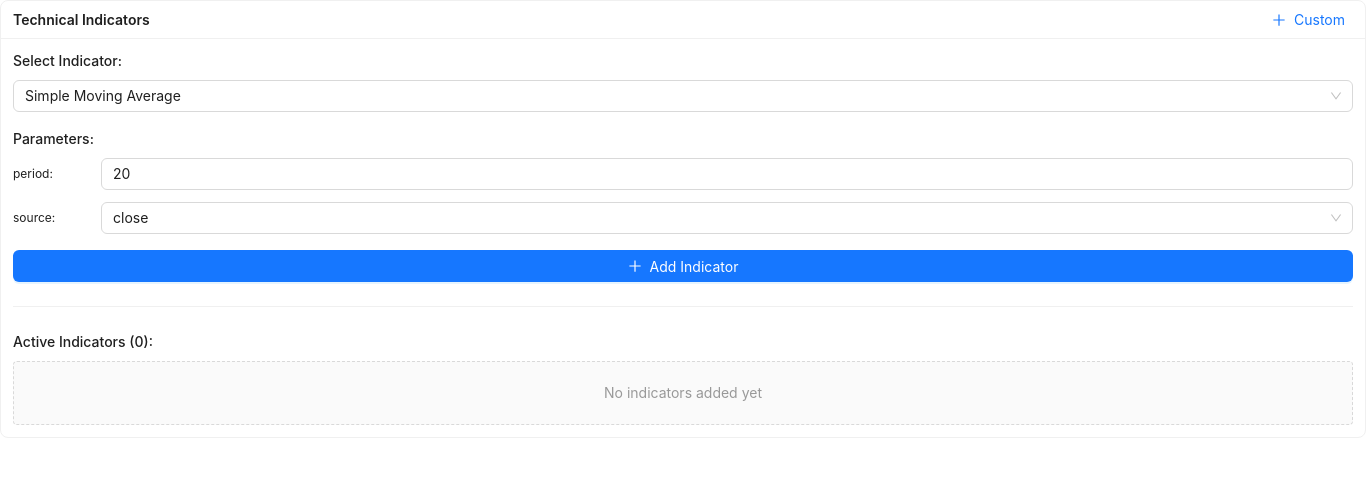
it: IndicatorBuilder › Adding Indicators › should generate unique instance IDs
# Add same indicator twice
Step 1. Click the button "Add Indicator" → (683,266), box [13, 250, 1353, 282]
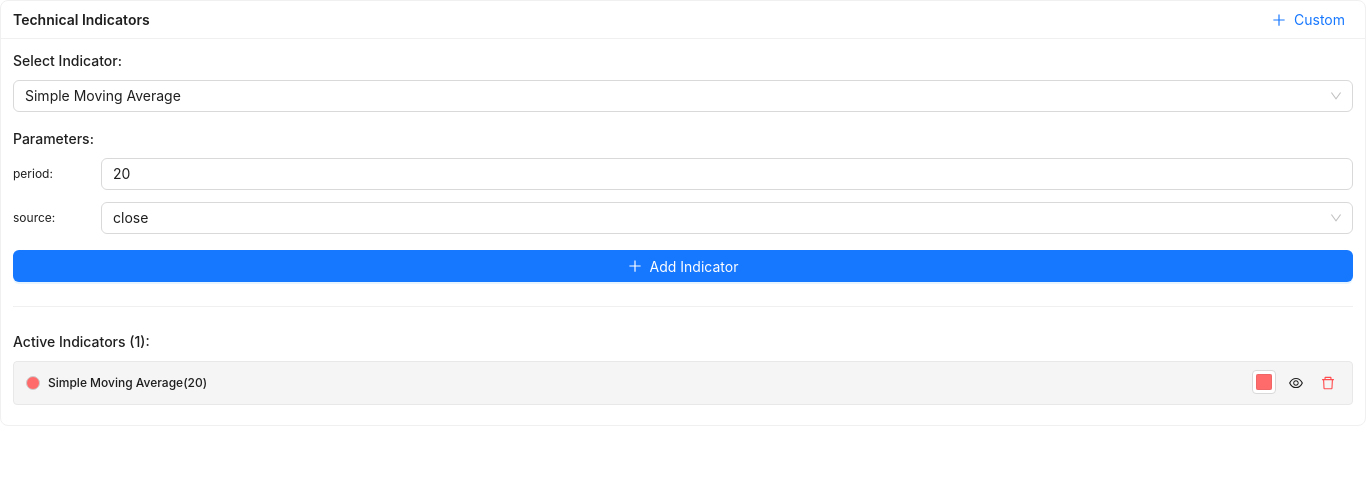
Step 2. Click the button "Add Indicator" → (683,266), box [13, 250, 1353, 282]
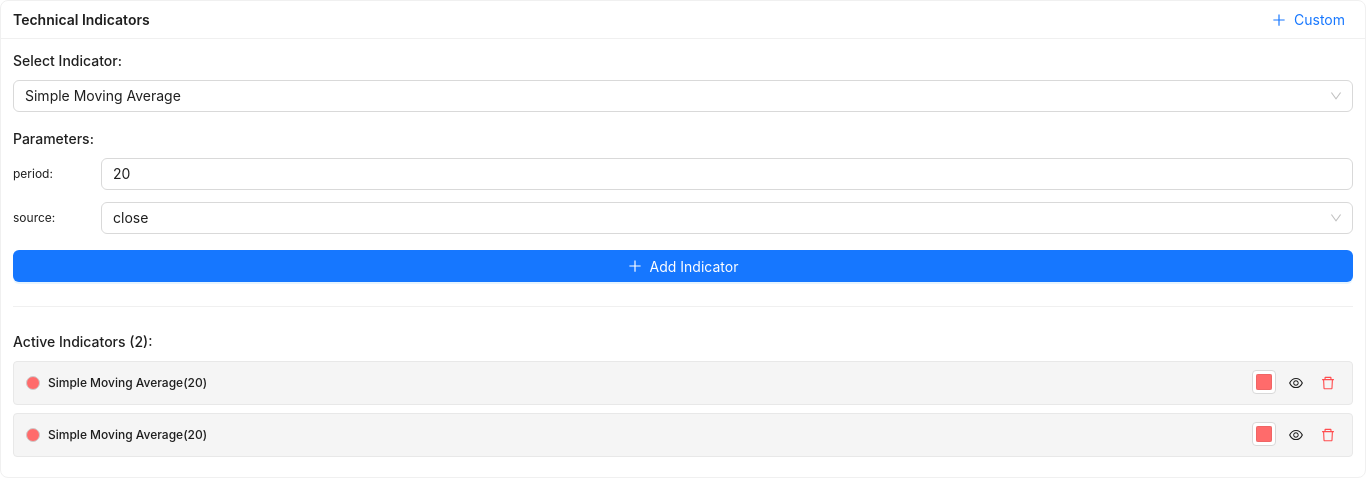
Now the text "Active Indicators (2):" is shown, box [13, 333, 152, 350]
